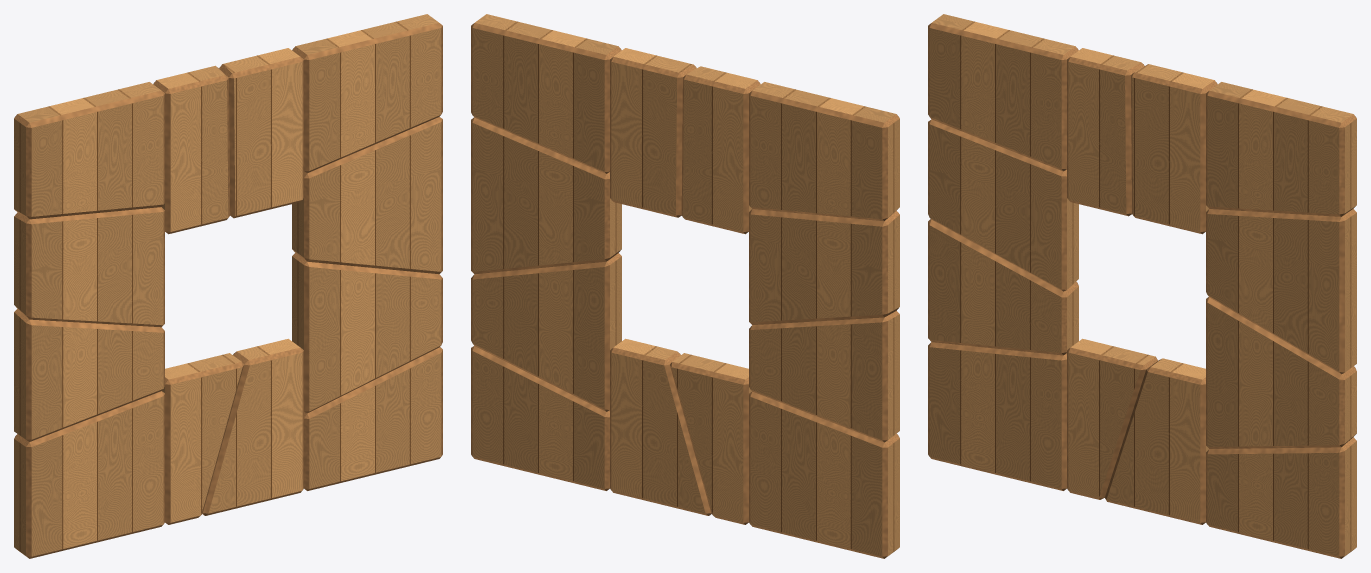
The model's file is Kit_Wood_WallWindow_Fractured.fbx.
3 renders of one model, left to right at view 1: azimuth 30°, elevation 25°; view 2: azimuth 150°, elevation 25°; view 3: azimuth 330°, elevation 25°, orthographic.
Visible parts, largest first — view 1: Kit_Wood_WallWindow_frag_01, Kit_Wood_WallWindow_frag_07, Kit_Wood_WallWindow_frag_04, Kit_Wood_WallWindow_frag_06, Kit_Wood_WallWindow_frag_03, Kit_Wood_WallWindow_frag_08, Kit_Wood_WallWindow_frag_02, Kit_Wood_WallWindow_frag_05, Kit_Wood_WallWindow_frag_10, Kit_Wood_WallWindow_frag_12, Kit_Wood_WallWindow_frag_11, Kit_Wood_WallWindow_frag_09; view 2: Kit_Wood_WallWindow_frag_01, Kit_Wood_WallWindow_frag_04, Kit_Wood_WallWindow_frag_07, Kit_Wood_WallWindow_frag_06, Kit_Wood_WallWindow_frag_08, Kit_Wood_WallWindow_frag_03, Kit_Wood_WallWindow_frag_02, Kit_Wood_WallWindow_frag_05, Kit_Wood_WallWindow_frag_10, Kit_Wood_WallWindow_frag_12, Kit_Wood_WallWindow_frag_11, Kit_Wood_WallWindow_frag_09; view 3: Kit_Wood_WallWindow_frag_07, Kit_Wood_WallWindow_frag_01, Kit_Wood_WallWindow_frag_08, Kit_Wood_WallWindow_frag_06, Kit_Wood_WallWindow_frag_04, Kit_Wood_WallWindow_frag_03, Kit_Wood_WallWindow_frag_05, Kit_Wood_WallWindow_frag_02, Kit_Wood_WallWindow_frag_10, Kit_Wood_WallWindow_frag_12, Kit_Wood_WallWindow_frag_11, Kit_Wood_WallWindow_frag_09.
Part boxes in pixels (x1,y1,x2,y2): Kit_Wood_WallWindow_frag_01: (14, 391, 164, 558); Kit_Wood_WallWindow_frag_07: (292, 117, 442, 274); Kit_Wood_WallWindow_frag_04: (14, 82, 164, 219); Kit_Wood_WallWindow_frag_06: (292, 253, 442, 413); Kit_Wood_WallWindow_frag_03: (14, 207, 164, 327); Kit_Wood_WallWindow_frag_08: (292, 14, 442, 173); Kit_Wood_WallWindow_frag_02: (14, 309, 164, 441); Kit_Wood_WallWindow_frag_05: (304, 347, 442, 490); Kit_Wood_WallWindow_frag_10: (202, 338, 303, 515); Kit_Wood_WallWindow_frag_12: (219, 48, 303, 218); Kit_Wood_WallWindow_frag_11: (153, 65, 230, 234); Kit_Wood_WallWindow_frag_09: (162, 353, 243, 524); Kit_Wood_WallWindow_frag_01: (749, 391, 899, 558); Kit_Wood_WallWindow_frag_04: (749, 82, 899, 221); Kit_Wood_WallWindow_frag_07: (471, 117, 621, 274); Kit_Wood_WallWindow_frag_06: (471, 253, 621, 411); Kit_Wood_WallWindow_frag_08: (471, 14, 621, 173); Kit_Wood_WallWindow_frag_03: (749, 209, 899, 324); Kit_Wood_WallWindow_frag_02: (749, 311, 899, 442); Kit_Wood_WallWindow_frag_05: (471, 346, 609, 490); Kit_Wood_WallWindow_frag_10: (610, 338, 711, 515); Kit_Wood_WallWindow_frag_12: (610, 48, 696, 217); Kit_Wood_WallWindow_frag_11: (681, 66, 760, 234); Kit_Wood_WallWindow_frag_09: (670, 353, 751, 524); Kit_Wood_WallWindow_frag_07: (1206, 209, 1356, 374); Kit_Wood_WallWindow_frag_01: (928, 342, 1066, 490); Kit_Wood_WallWindow_frag_08: (1206, 82, 1356, 216); Kit_Wood_WallWindow_frag_06: (1206, 297, 1356, 448); Kit_Wood_WallWindow_frag_04: (928, 14, 1078, 171); Kit_Wood_WallWindow_frag_03: (928, 119, 1078, 291); Kit_Wood_WallWindow_frag_05: (1206, 437, 1356, 558); Kit_Wood_WallWindow_frag_02: (928, 219, 1078, 355); Kit_Wood_WallWindow_frag_10: (1104, 358, 1208, 524); Kit_Wood_WallWindow_frag_12: (1131, 64, 1217, 234); Kit_Wood_WallWindow_frag_11: (1067, 48, 1144, 216); Kit_Wood_WallWindow_frag_09: (1067, 338, 1157, 499).
Size of what is drawn, in the model's own units: 3 by 3 by 0.2.
Materials: 2 (2 with a texture image).
